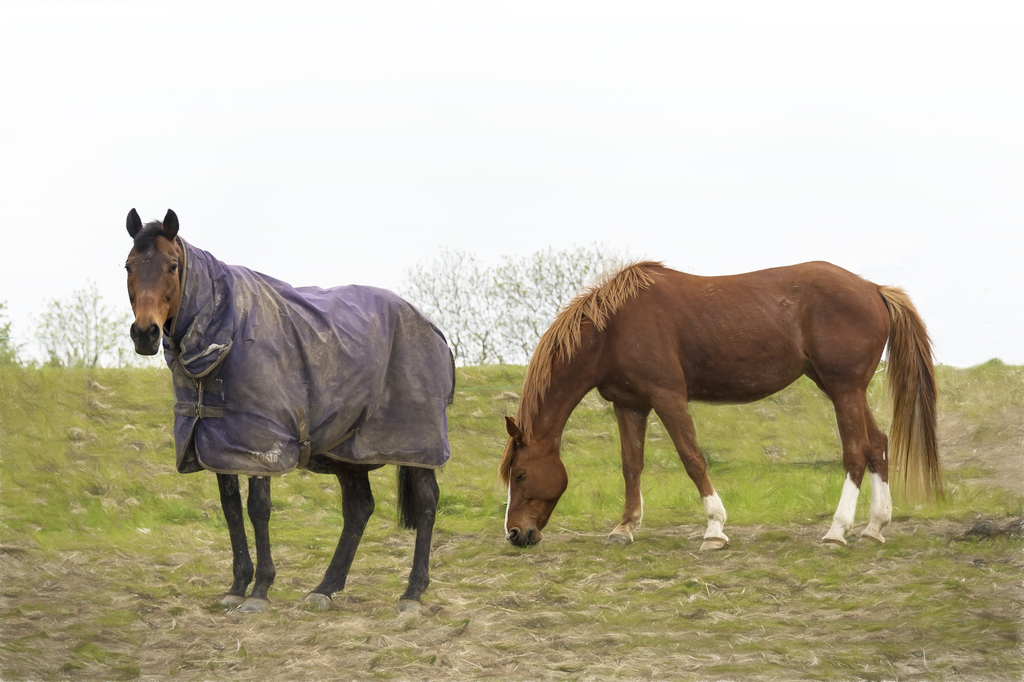horse: (498, 260, 948, 553)
